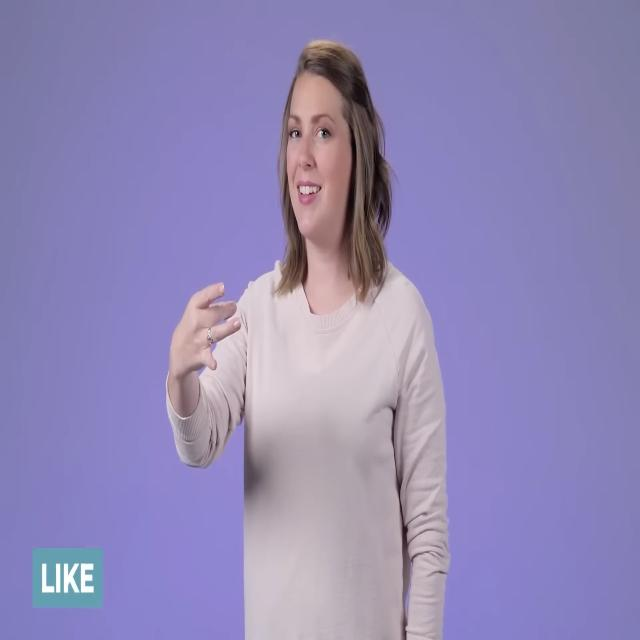like: (155, 267, 250, 418)
